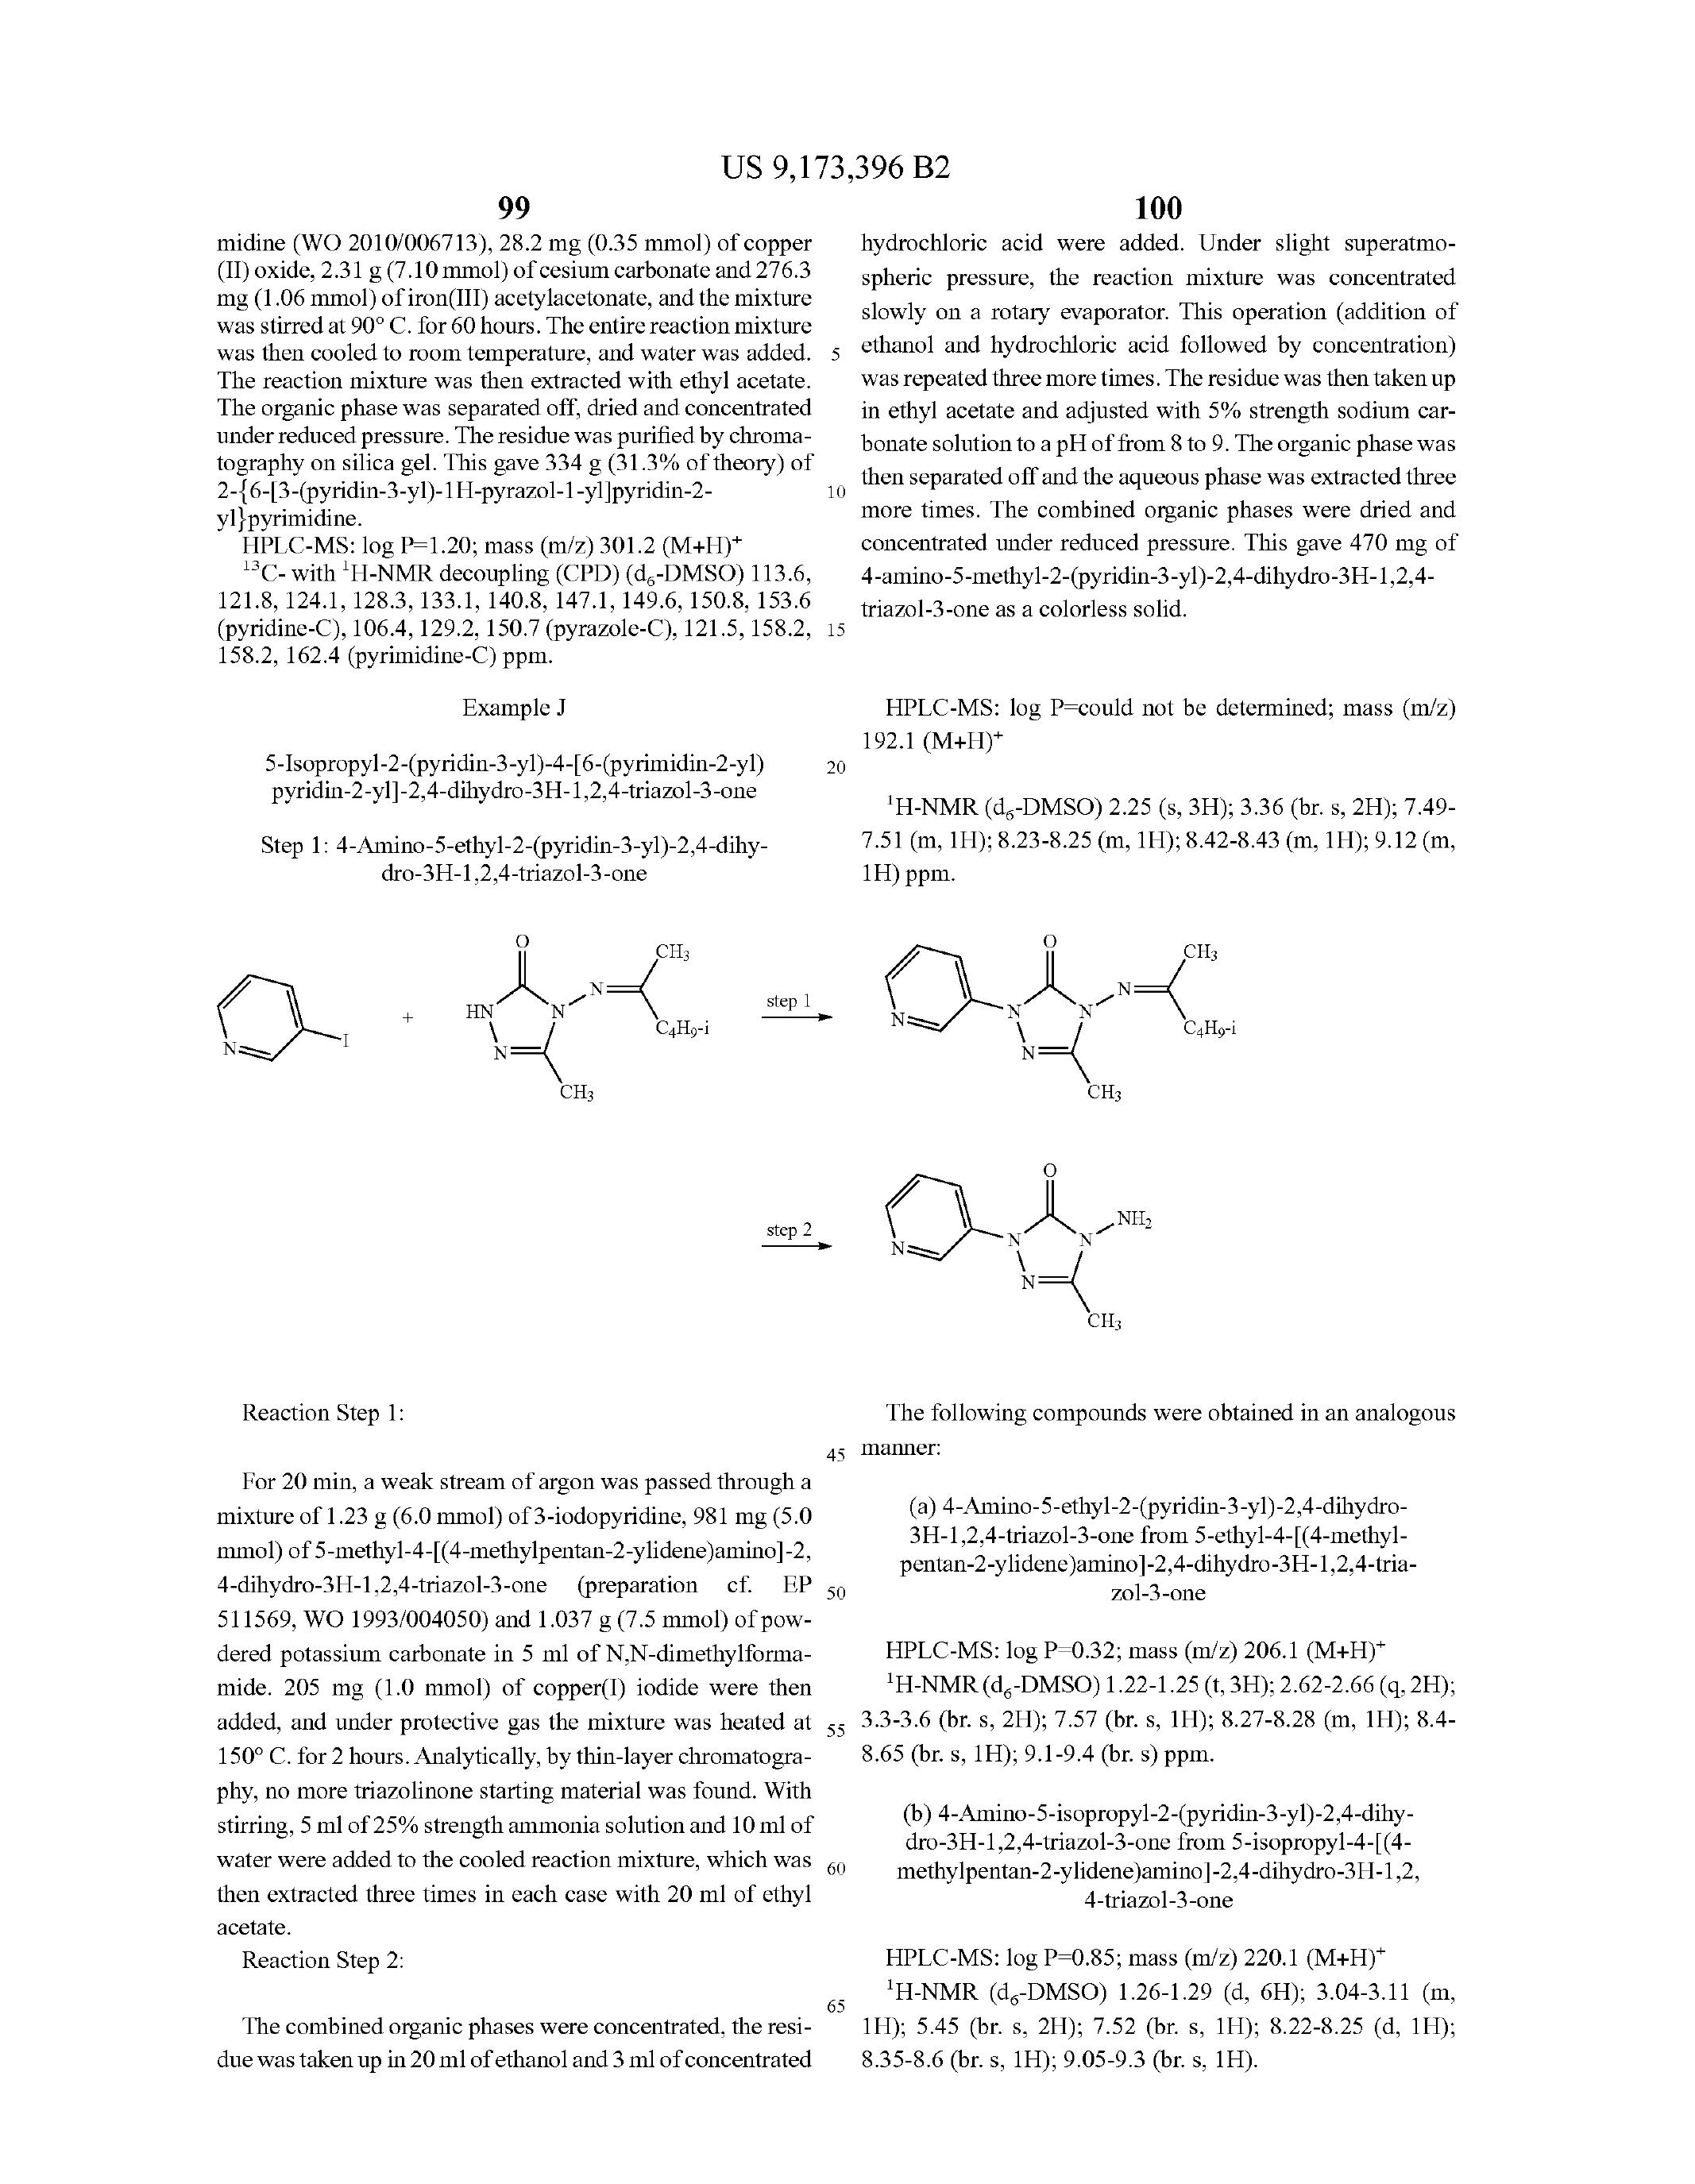reactions: (160, 901, 1418, 1344)
